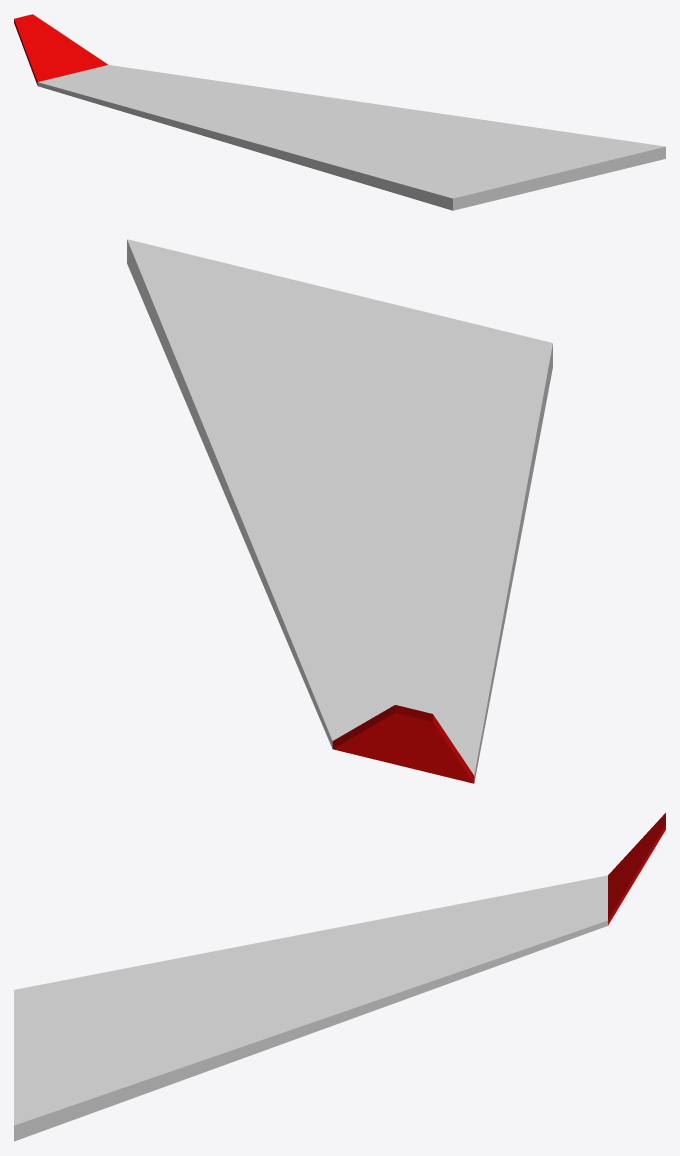
Rendered from plane_wing_left.fbx.
The picture shows the model from 3 angles, top to bottom: view 1: azimuth 30°, elevation 25°; view 2: azimuth 150°, elevation 25°; view 3: azimuth 270°, elevation 25°; orthographic projection. The views are drawn at different scales.
Parts seen in each view (by area): view 1: Plane_Wing.001; view 2: Plane_Wing.001; view 3: Plane_Wing.001.
Boxes of the visible parts, <box> form: Plane_Wing.001: <box>14,14,665,210</box>; Plane_Wing.001: <box>127,239,552,783</box>; Plane_Wing.001: <box>14,813,665,1141</box>.
Bounding box in the file's own units: 12.83 × 1.69 × 13.78.
